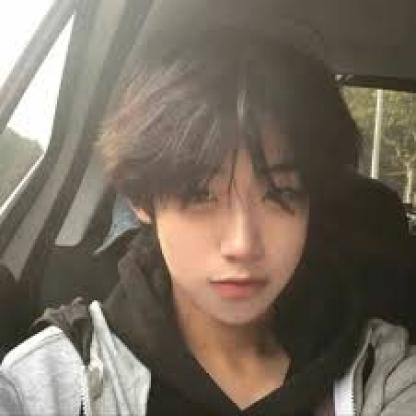person: (112, 21, 354, 324)
